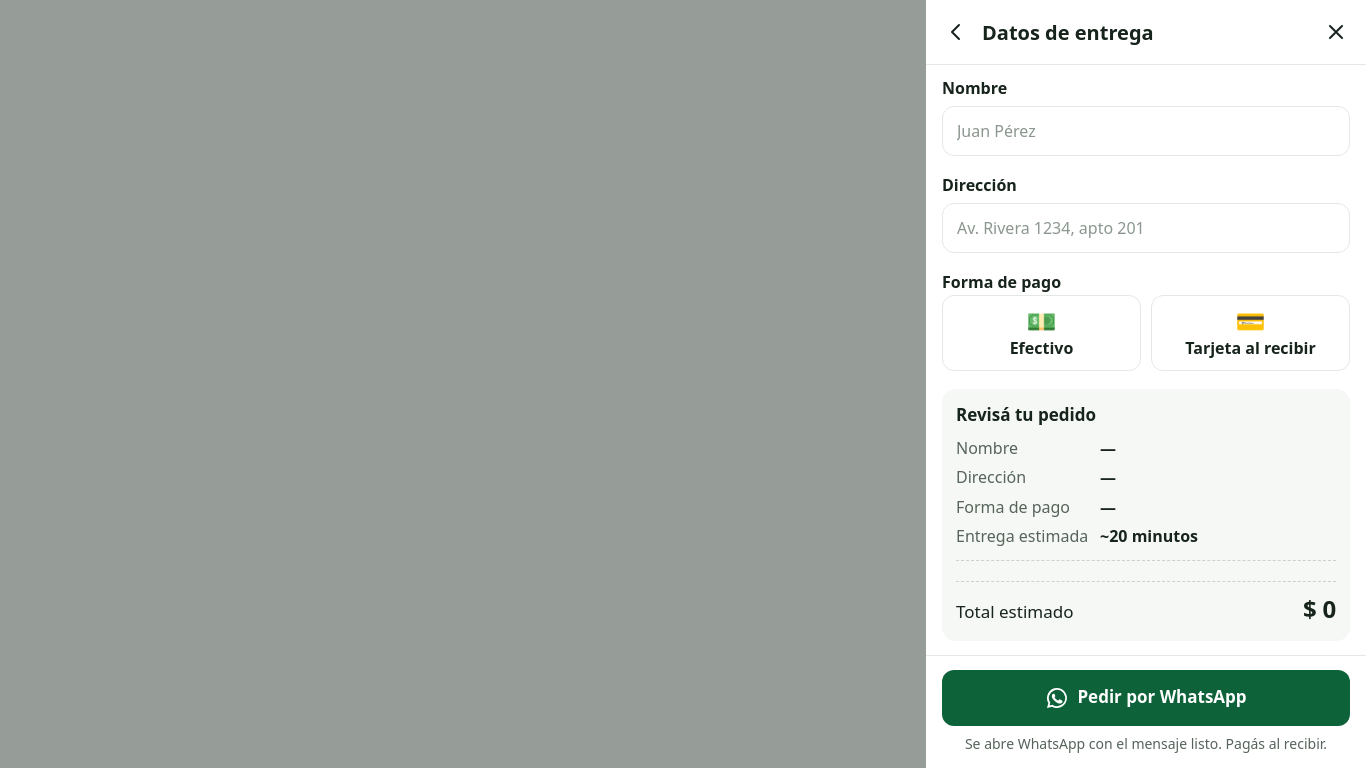
it: CheckoutModal › 15. no envía con el carrito vacío
Type "Juan" into the field labelled "Nombre" at (1146,131), box [942,106,1350,156]
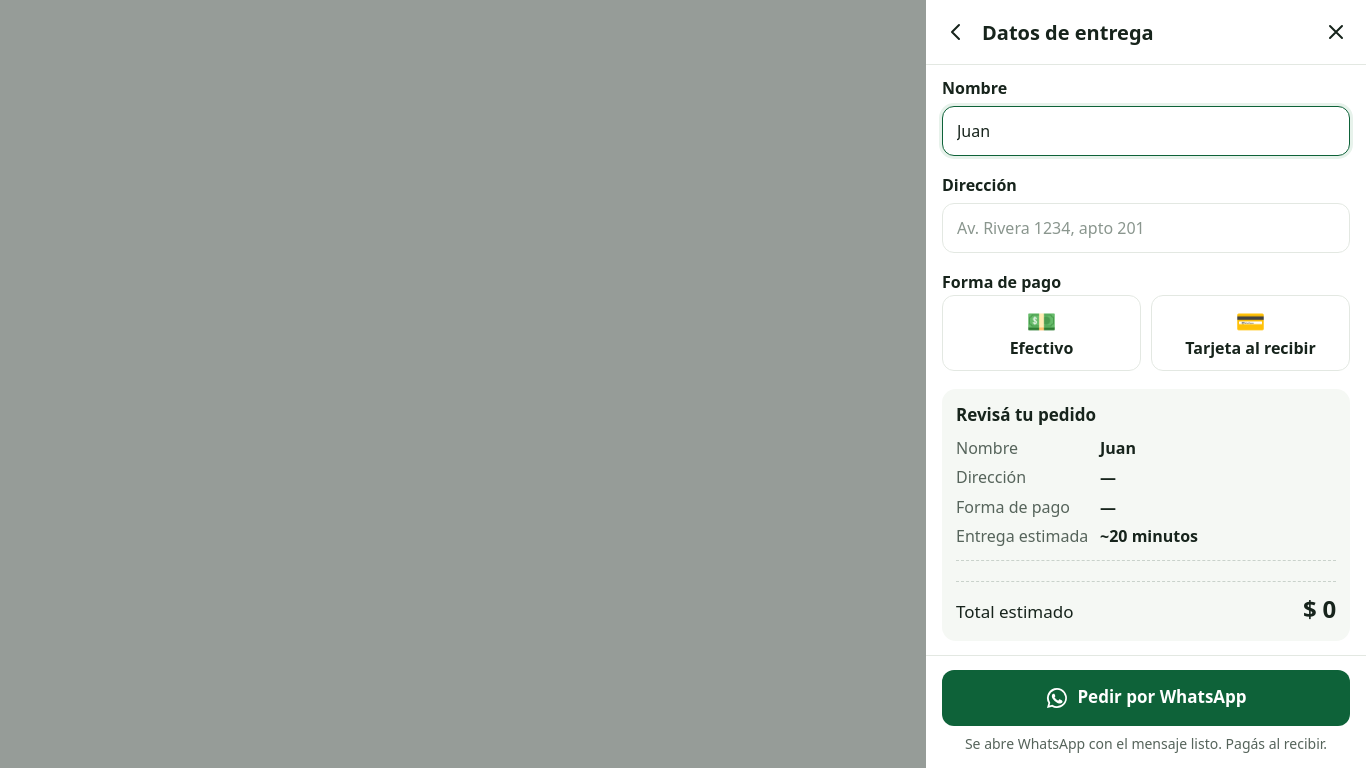
Type "Rivera 1234" into the field labelled "Dirección" at (1146,228), box [942,203,1350,253]
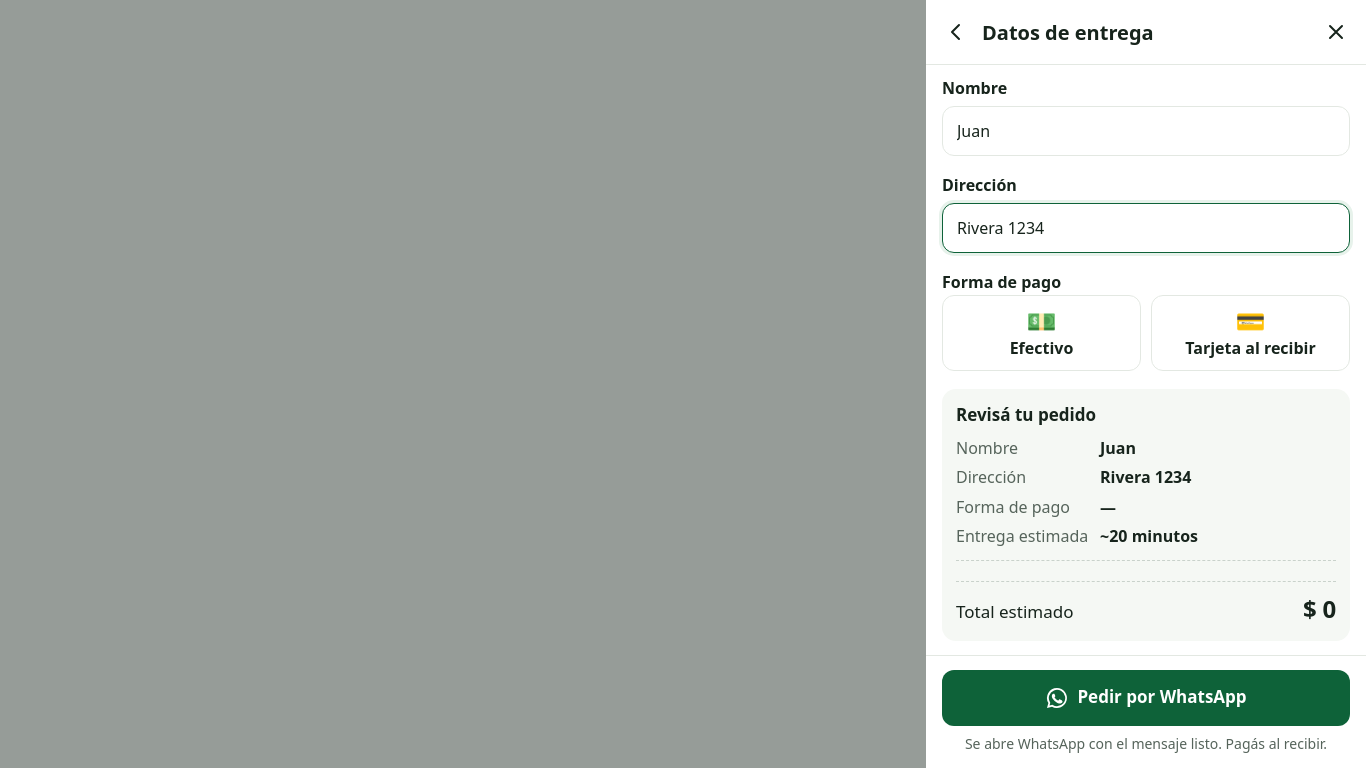
Click the radio button labelled "💵 Efectivo" at (1042,333), box [942,295,1141,371]
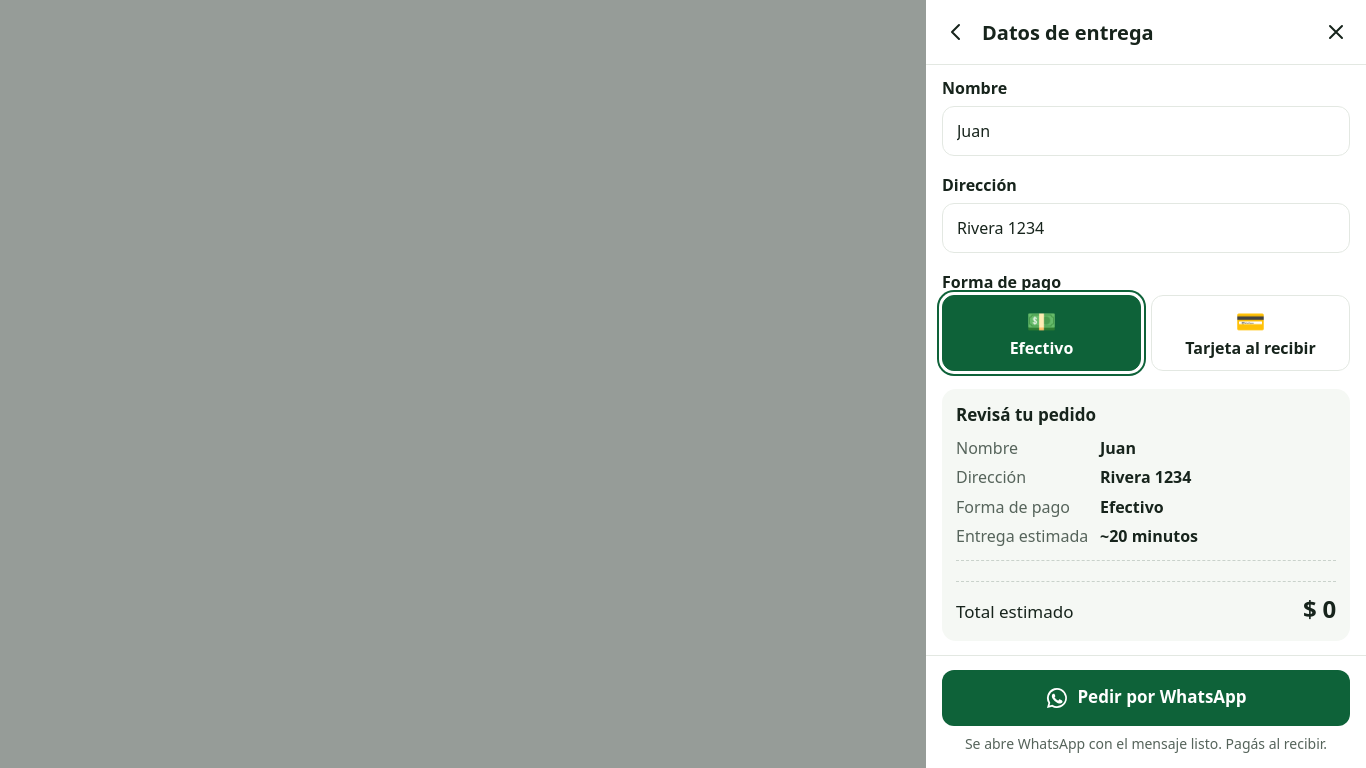
Click the button "Pedir por WhatsApp" at (1146,698), box [942,670,1350,726]
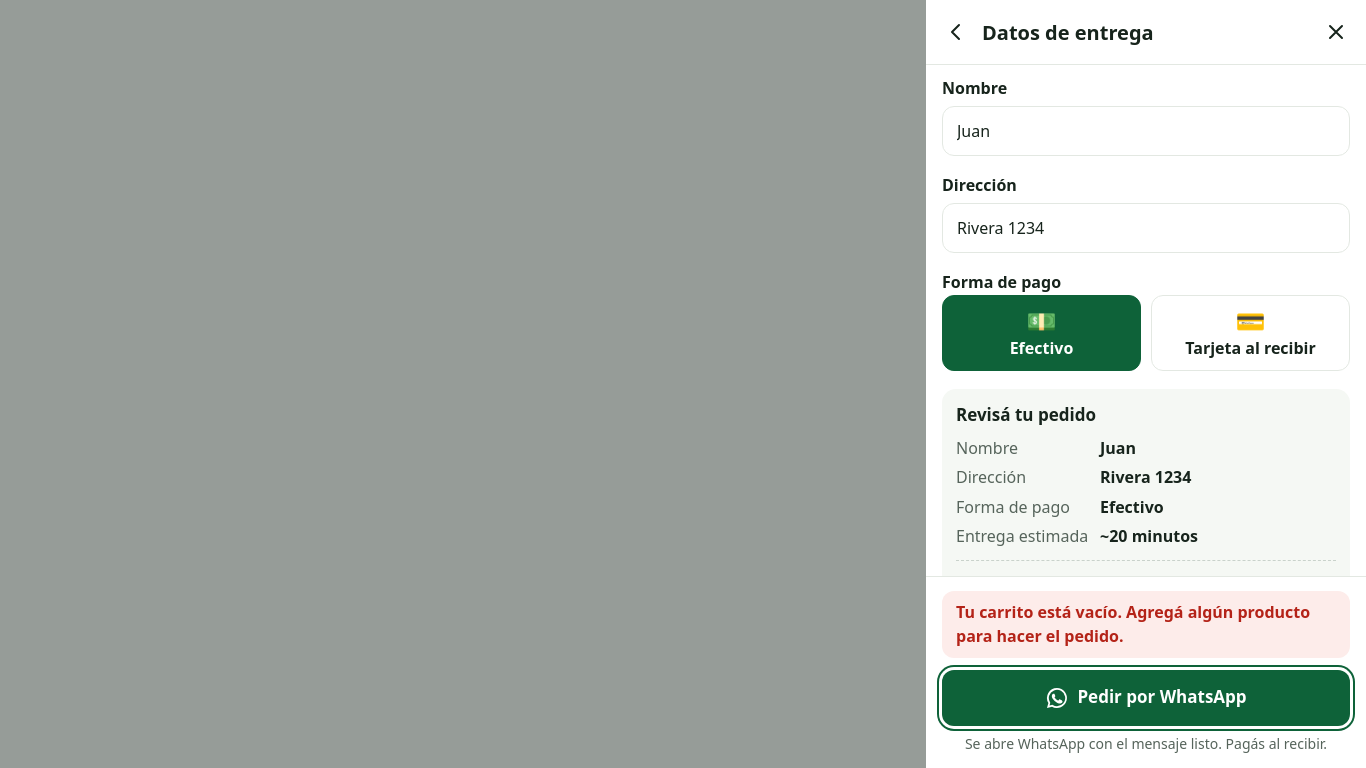
Now the message shows "Tu carrito está vacío", box [956,601,1310,646]
